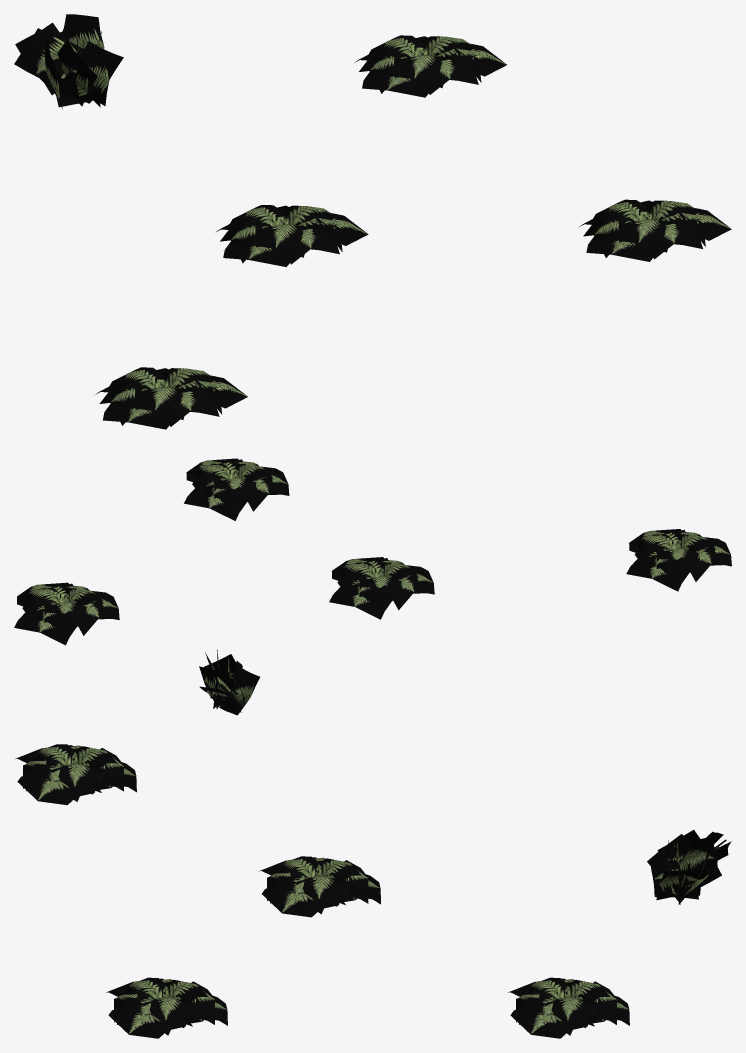
Rendered from arbustosLeones.obj.
The picture shows the model from 3 angles, top to bottom: view 1: azimuth 30°, elevation 25°; view 2: azimuth 150°, elevation 25°; view 3: azimuth 270°, elevation 25°; orthographic projection. The views are drawn at different scales.
Visible parts, largest first — view 1: Mesh, ormbunke_Mesh1, ormbunke_Mesh3, ormbunke_Mesh2, ormbunke_Mesh; view 2: ormbunke_Mesh, ormbunke_Mesh3, ormbunke_Mesh1, ormbunke_Mesh2, Mesh; view 3: ormbunke_Mesh, ormbunke_Mesh1, ormbunke_Mesh2, ormbunke_Mesh3, Mesh.
Boxes of the visible parts, x1,y1,x2,y2 form: Mesh: (14, 14, 123, 108); ormbunke_Mesh1: (355, 35, 506, 97); ormbunke_Mesh3: (95, 367, 247, 429); ormbunke_Mesh2: (579, 199, 731, 261); ormbunke_Mesh: (216, 205, 368, 266); ormbunke_Mesh: (329, 557, 434, 619); ormbunke_Mesh3: (626, 529, 731, 591); ormbunke_Mesh1: (14, 582, 119, 645); ormbunke_Mesh2: (184, 458, 289, 520); Mesh: (199, 649, 259, 715); ormbunke_Mesh: (259, 856, 380, 917); ormbunke_Mesh1: (508, 977, 629, 1038); ormbunke_Mesh2: (106, 977, 227, 1038); ormbunke_Mesh3: (15, 744, 136, 805); Mesh: (647, 830, 731, 904).
Size of the model in its own units: 12.92 by 1.47 by 13.41.
1 material, 1 textured.
